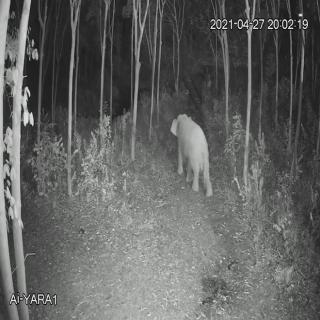Elephant: (168, 110, 218, 200)
